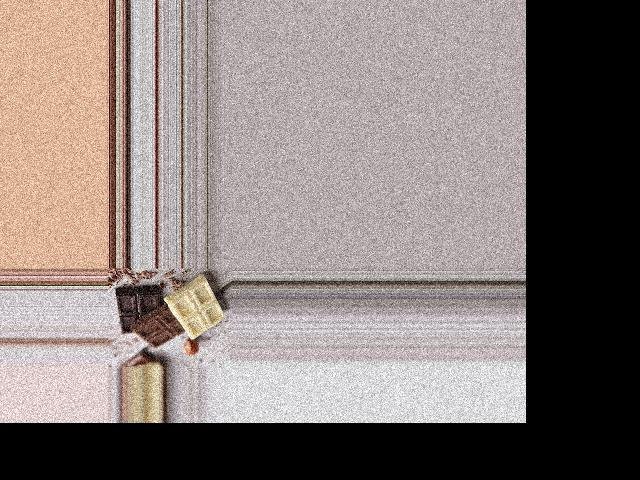chocolate: (110, 280, 224, 348)
